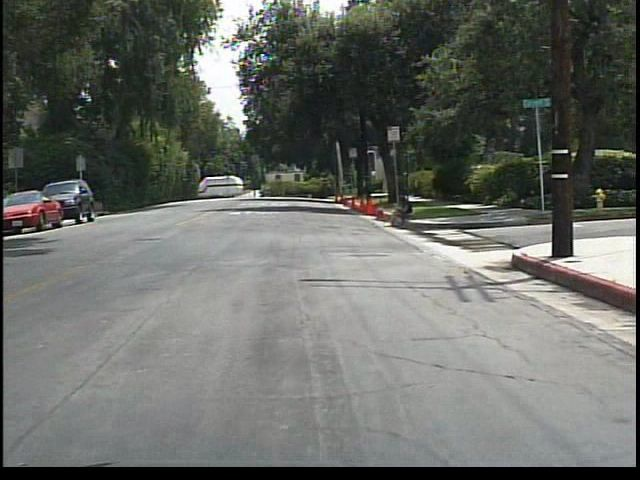person: (387, 191, 419, 234)
